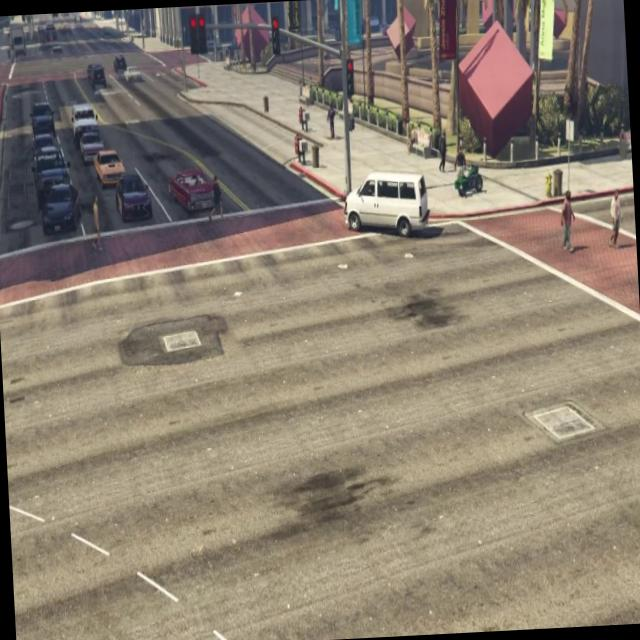Red-Signal: (186, 6, 212, 62), (266, 8, 288, 64), (340, 48, 358, 106)
